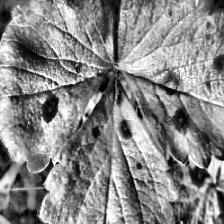Leaf Spot: (38, 68, 180, 224), (0, 0, 115, 174), (116, 0, 224, 169), (153, 152, 224, 224)
